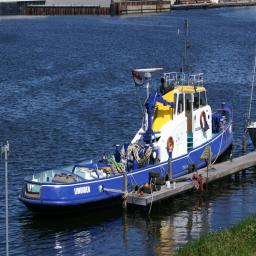tugboat: (18, 67, 237, 223)
